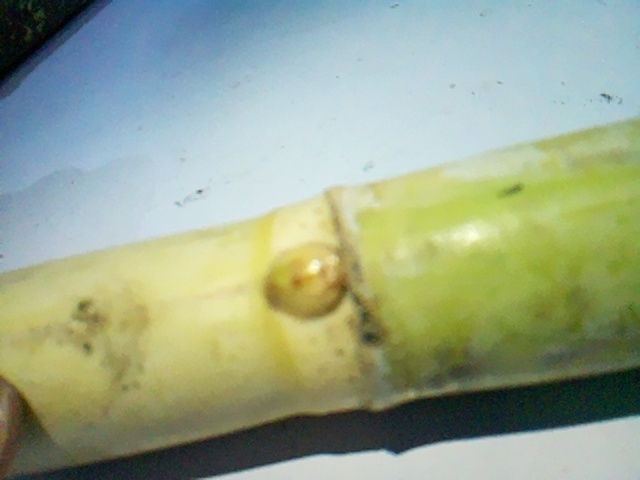Good Sugarcane: (1, 111, 634, 480)
Node: (258, 171, 395, 438)
